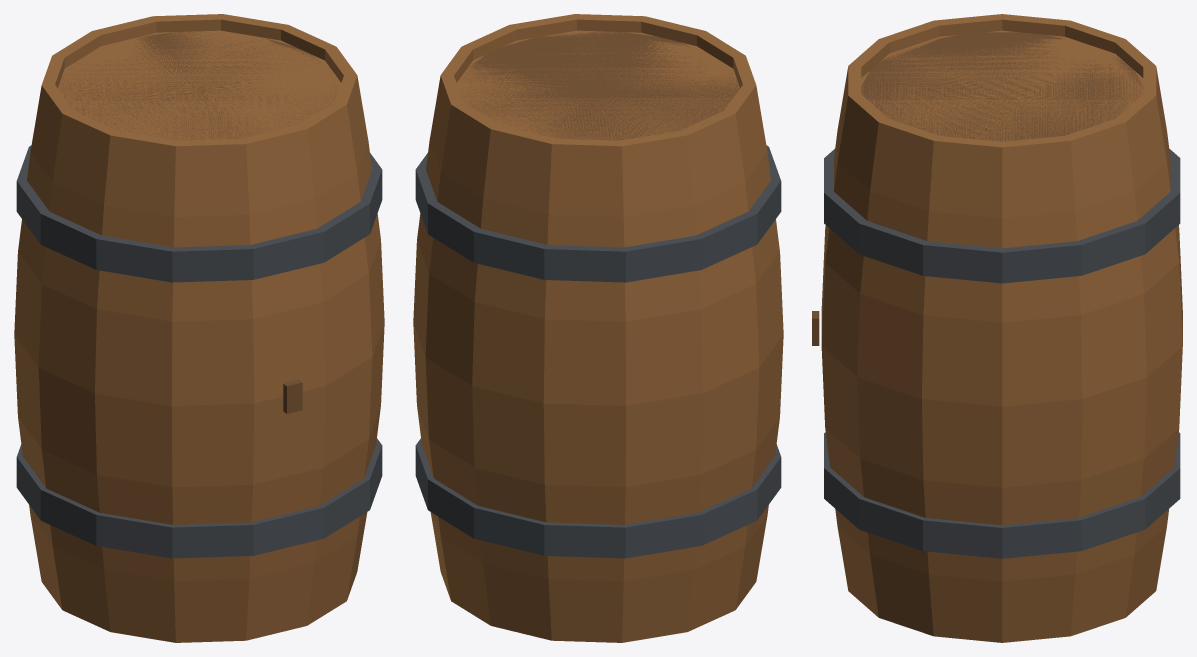
Rendered from barrel.glb.
3 renders of one model, left to right at view 1: azimuth 30°, elevation 25°; view 2: azimuth 150°, elevation 25°; view 3: azimuth 270°, elevation 25°, orthographic.
Parts seen in each view (by area): view 1: barrel; view 2: barrel; view 3: barrel.
Part boxes in pixels (x1,y1,x2,y2): barrel: (14,14,384,642); barrel: (413,14,783,642); barrel: (812,14,1182,642).
Bounding box in the file's own units: 0.61 × 0.9 × 0.6104.
